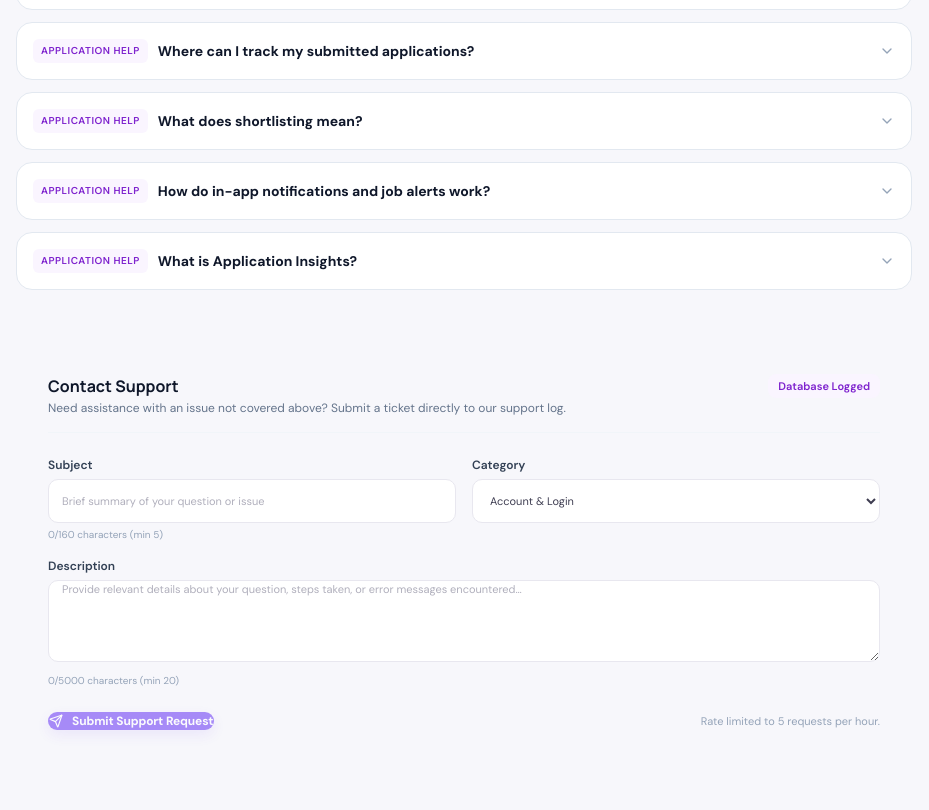
Test: HelpSupportPage › submits support request form successfully
(page scrolled)
Type "Need profile help" into the field with placeholder "Brief summary of your question or issue" at (252, 501), box [48, 479, 456, 523]
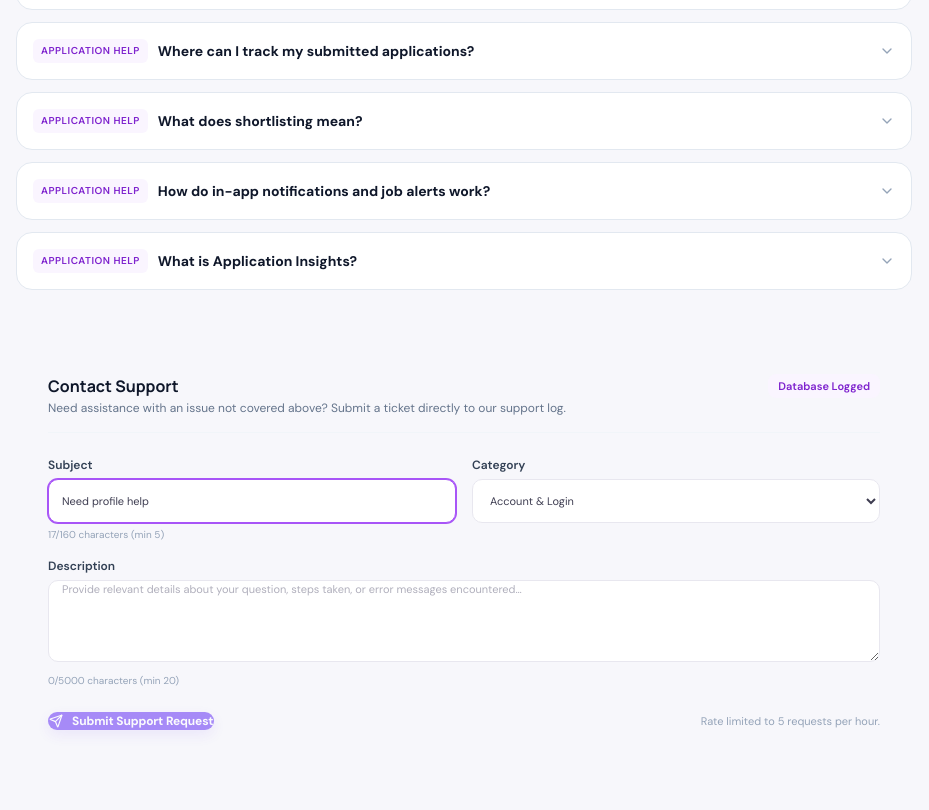
Type "I am unable to update my certification credential URL." into the text box with placeholder "Provide relevant details about your question" at (464, 621), box [48, 580, 880, 662]
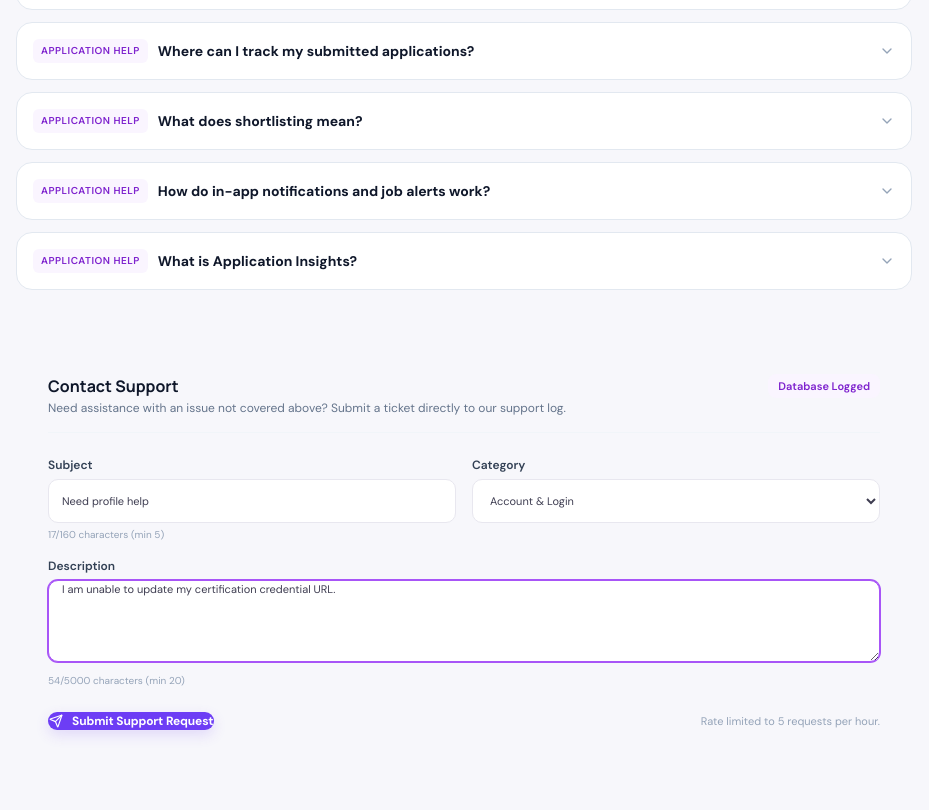
Click the button "Submit Support Request" at (131, 721), box [48, 712, 214, 730]
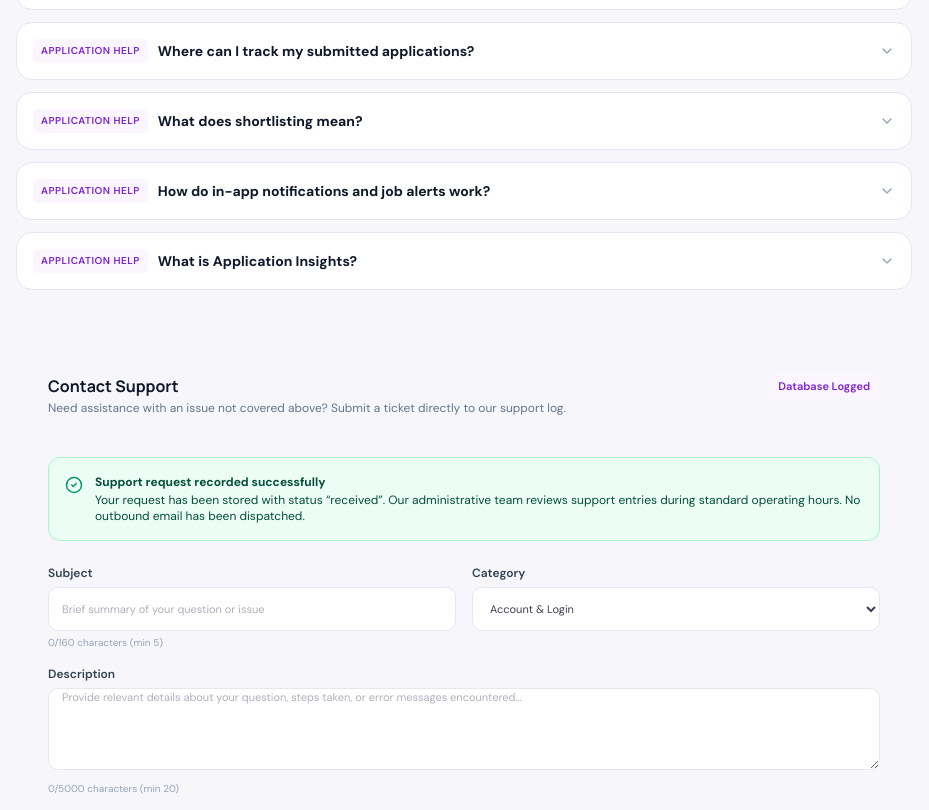
Now the text "Support request recorded successfully" is shown, box [95, 474, 325, 490]
